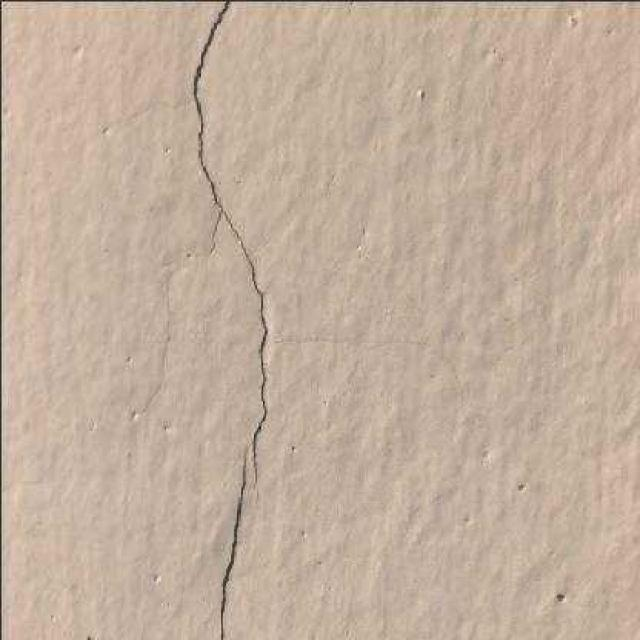D00: (192, 0, 266, 494), (218, 451, 245, 640)
